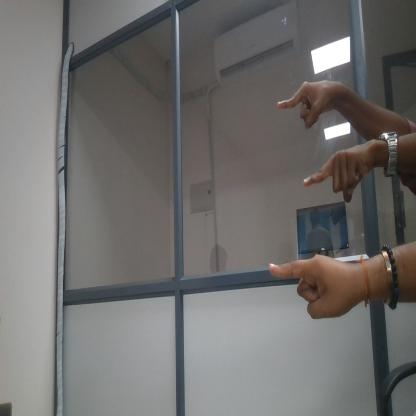Right: (267, 250, 353, 324), (302, 140, 370, 209), (275, 73, 333, 129)
